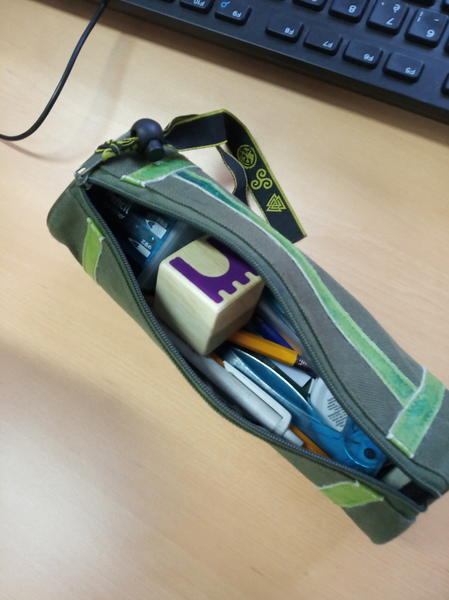violet: (166, 233, 260, 329)
